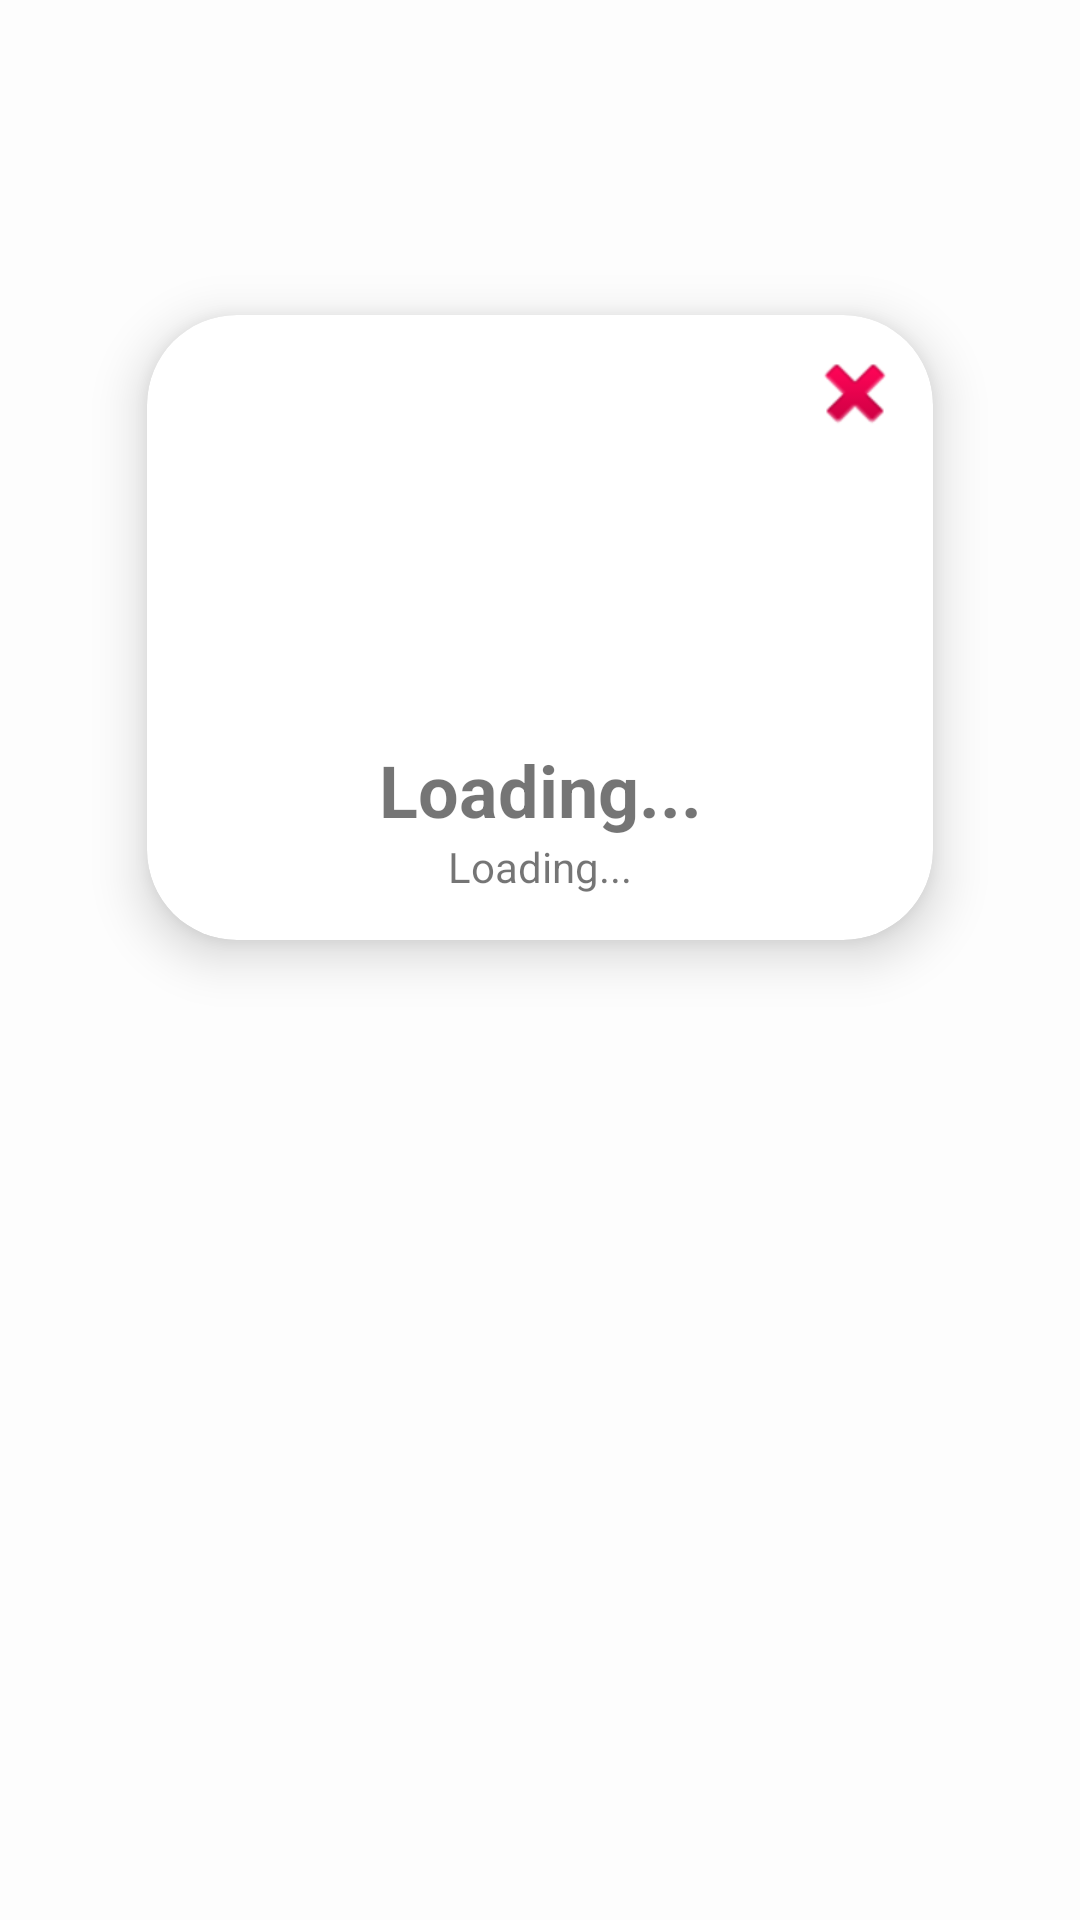

Icon click points for this 1080 × 1920 phone screenshot, format point (x, y):
delete: point (855, 393)
